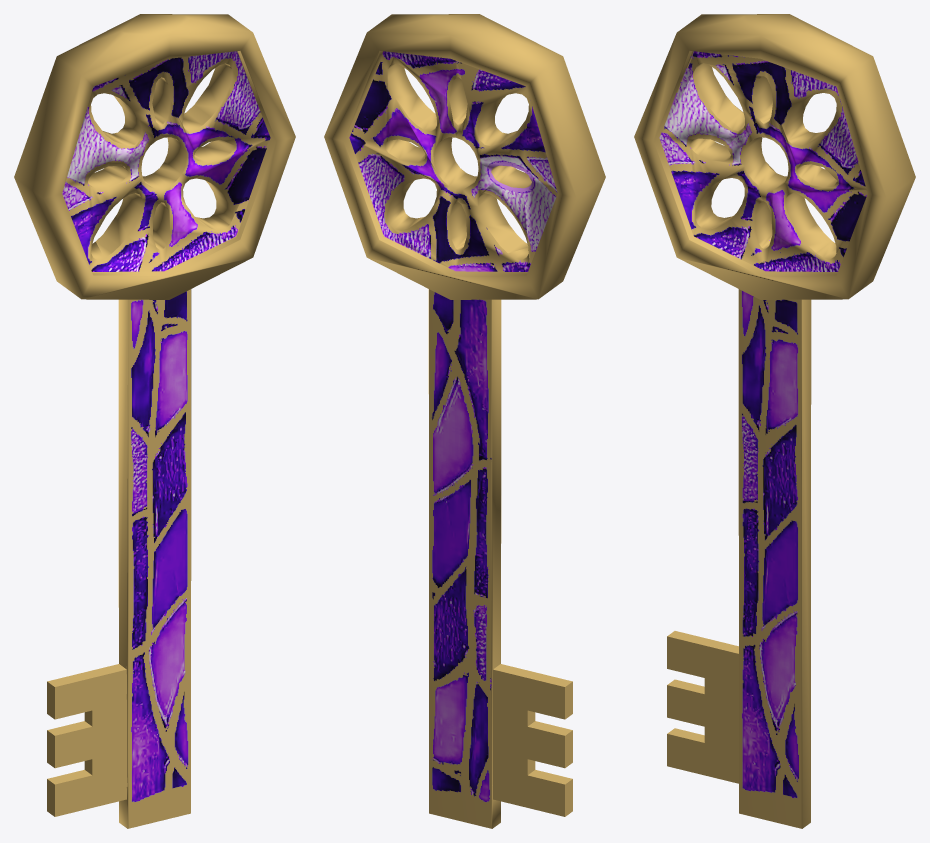
File: key02.glb
3 renders of one model, left to right at view 1: azimuth 30°, elevation 25°; view 2: azimuth 150°, elevation 25°; view 3: azimuth 330°, elevation 25°, orthographic.
Visible parts, largest first — view 1: key04; view 2: key04; view 3: key04.
Part boxes in pixels (x1,y1,x2,y2): key04: (14, 14, 295, 828); key04: (324, 14, 605, 828); key04: (634, 14, 915, 828).
Size of the model in its own units: 0.25 by 0.75 by 0.05.
2 materials, 1 textured.
